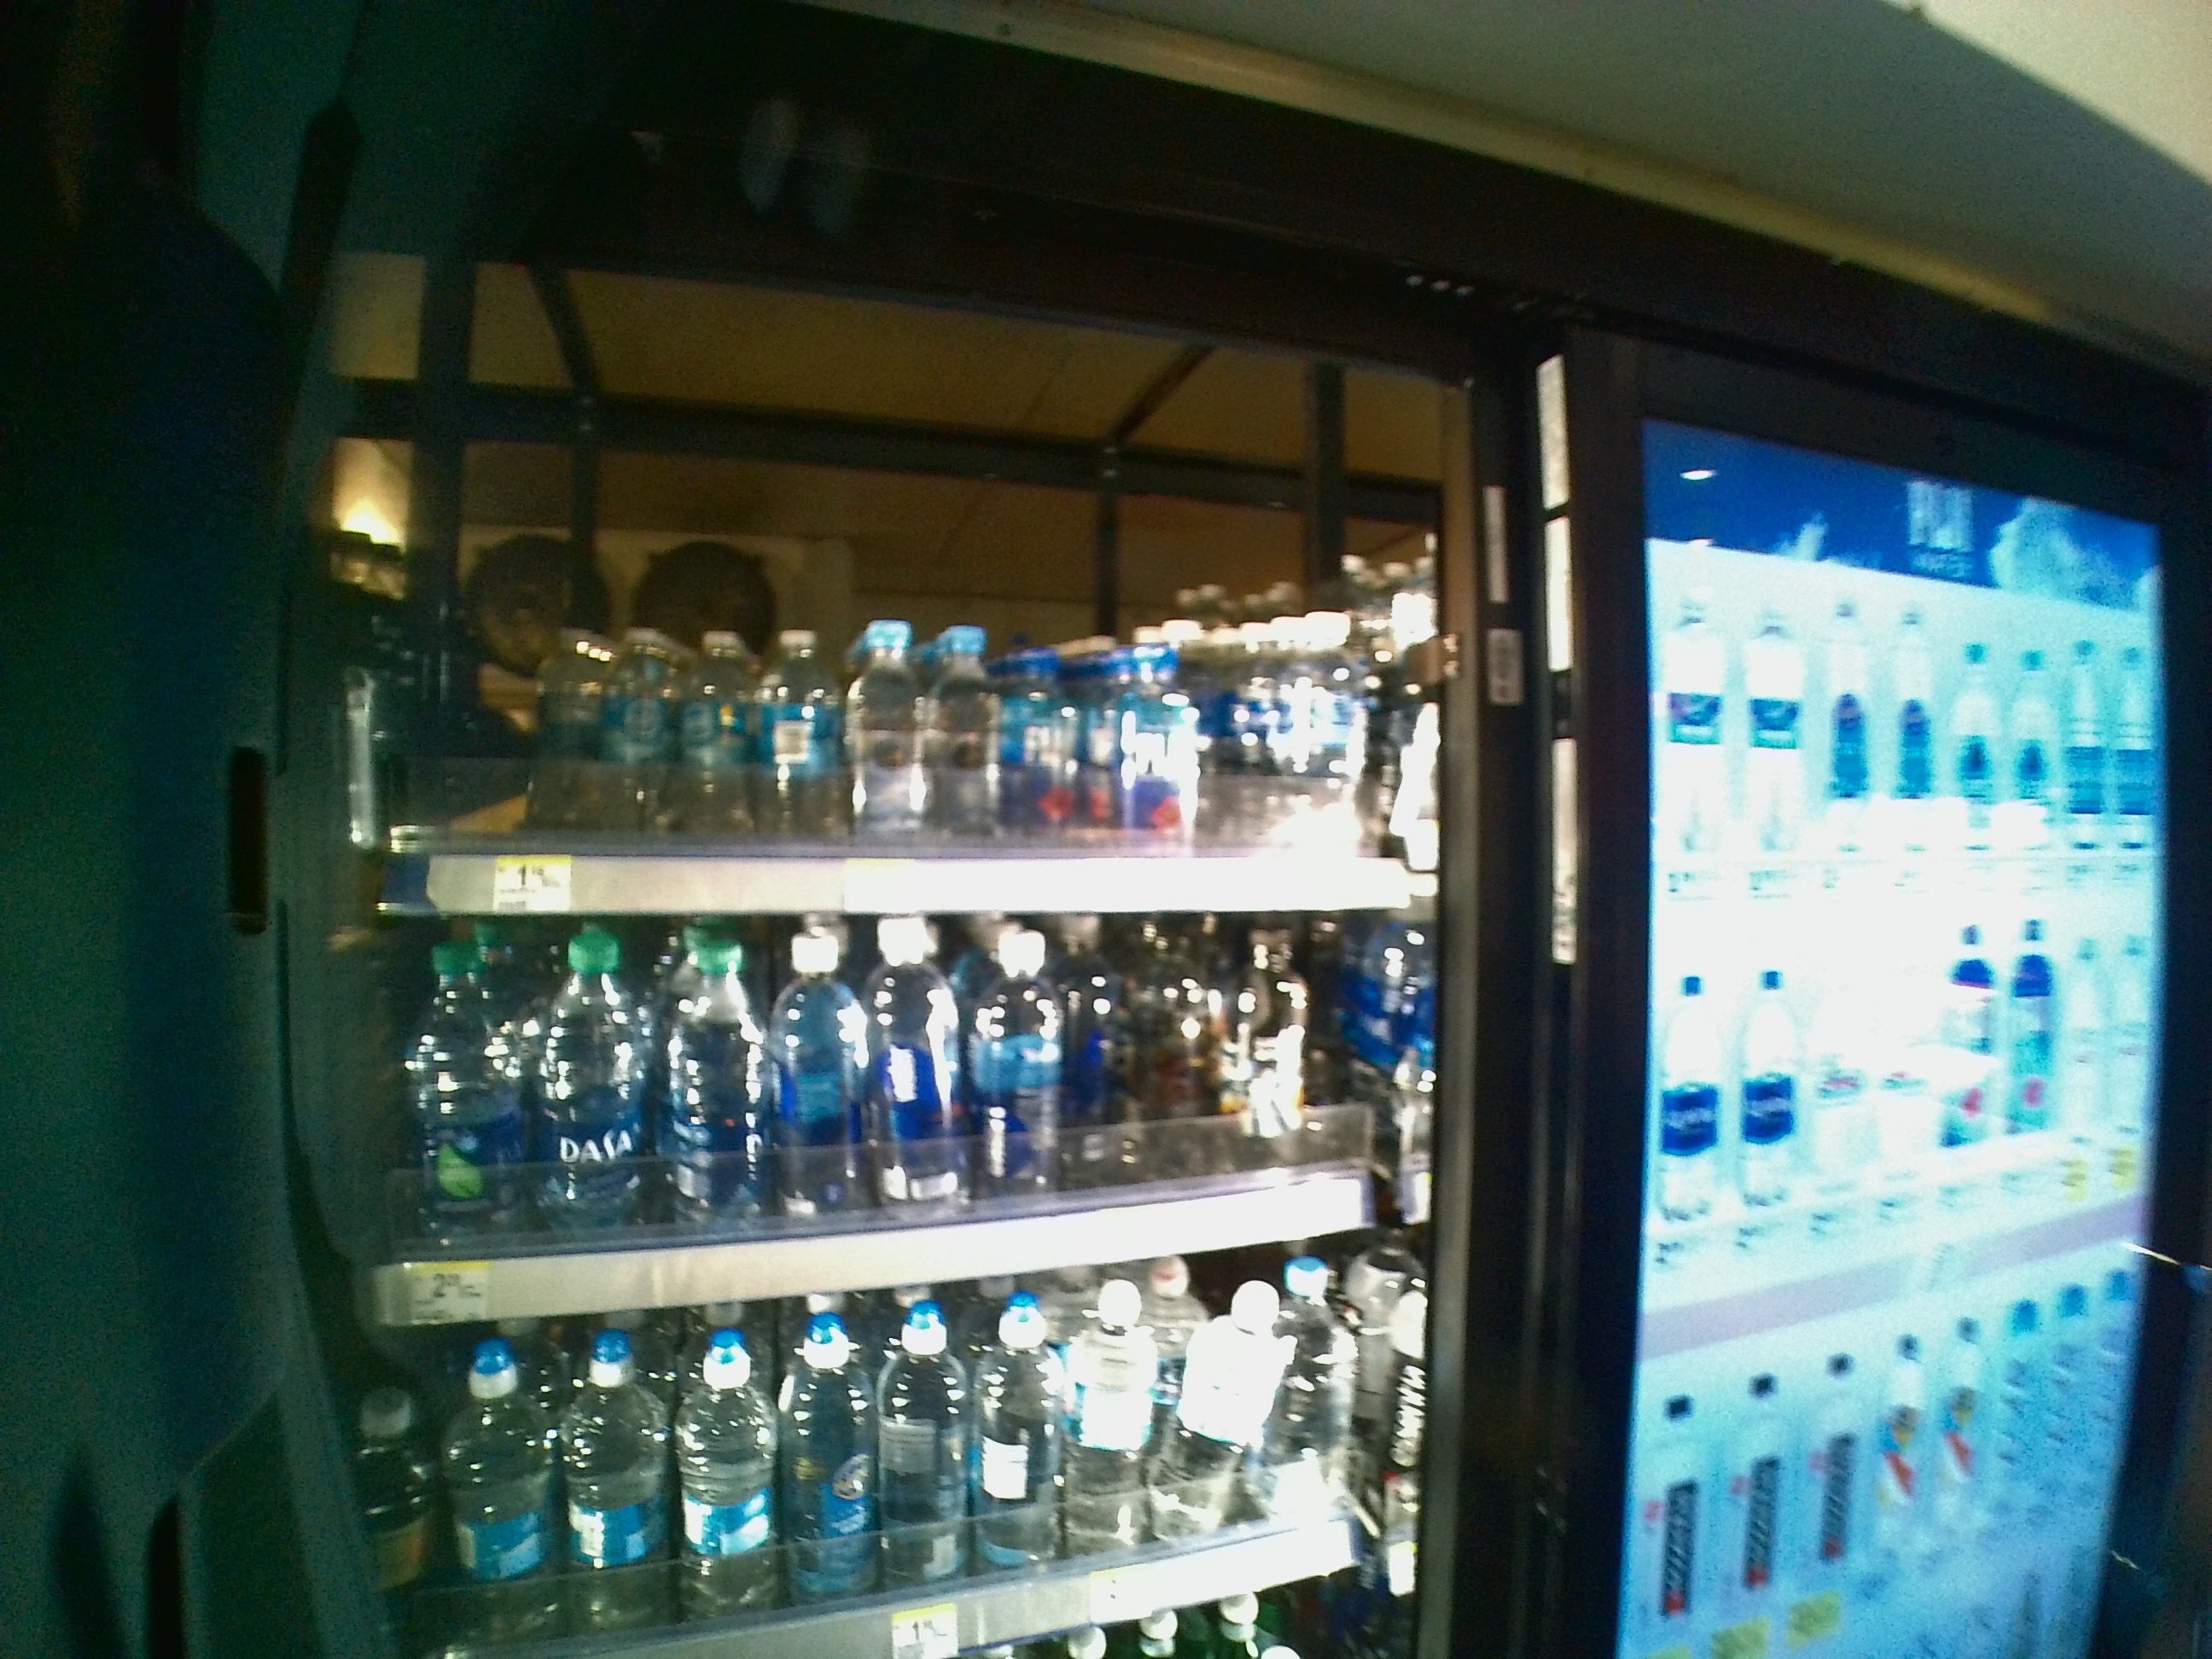Shelf: (320, 404, 1451, 918), (320, 922, 1463, 1310)
